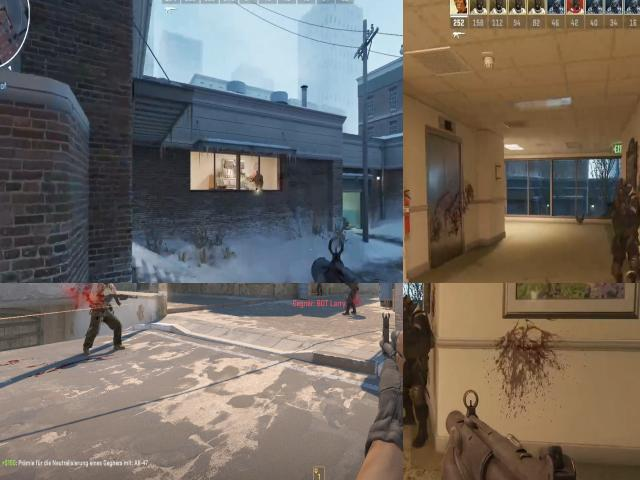CT: (603, 172, 640, 270), (343, 283, 358, 312), (317, 283, 323, 294)
CT-Head: (403, 292, 433, 365), (610, 177, 635, 208), (403, 296, 419, 326)
T: (86, 283, 124, 347)
T-Head: (97, 283, 115, 290)
